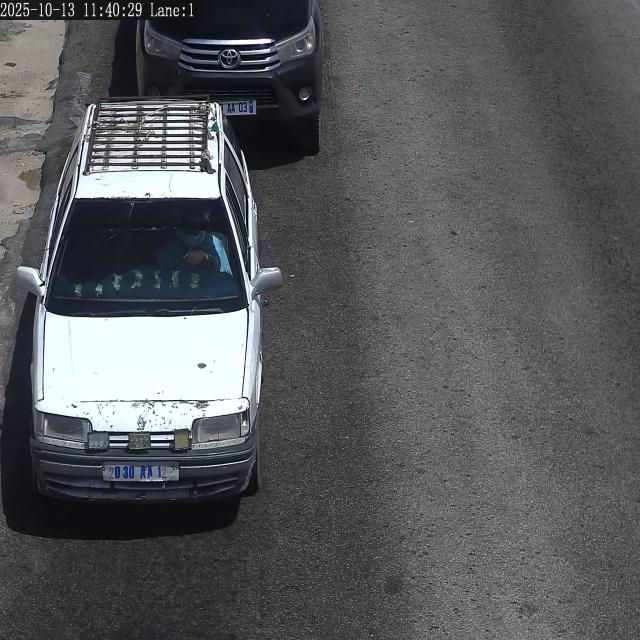BUS: (103, 463, 179, 481), (221, 100, 256, 115)
